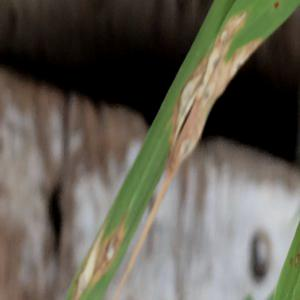1 RiceBlast: (156, 13, 266, 168), (94, 223, 129, 268)
